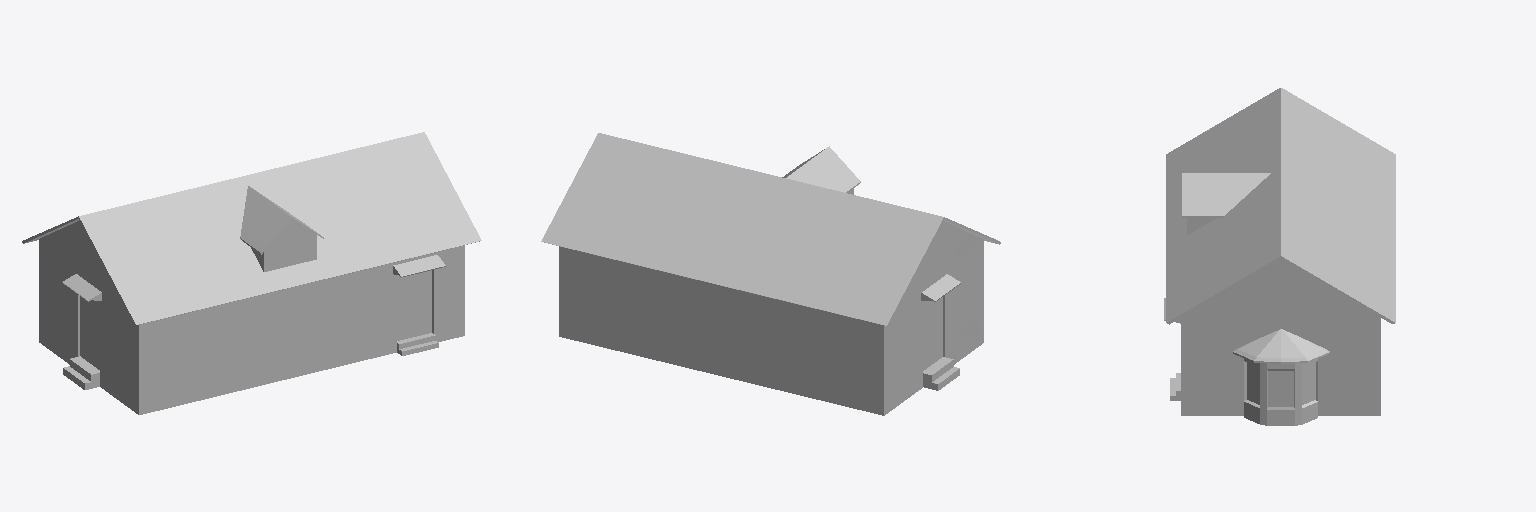
The model's file is cottage.obj.
3 renders of one model, left to right at view 1: azimuth 30°, elevation 25°; view 2: azimuth 150°, elevation 25°; view 3: azimuth 270°, elevation 25°, orthographic.
Visible parts, largest first — view 1: cottage_Cube_Cube.002; view 2: cottage_Cube_Cube.002; view 3: cottage_Cube_Cube.002.
Boxes of the visible parts, x1=… form: cottage_Cube_Cube.002: x1=22, y1=132, x2=481, y2=414; cottage_Cube_Cube.002: x1=541, y1=133, x2=1000, y2=415; cottage_Cube_Cube.002: x1=1164, y1=88, x2=1395, y2=425.
Size of the model in its own units: 2.63 by 1.14 by 1.45.